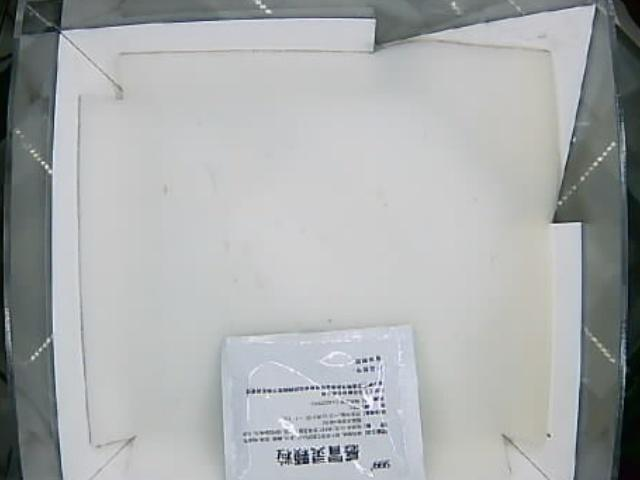Medicine: (219, 322, 423, 480)
